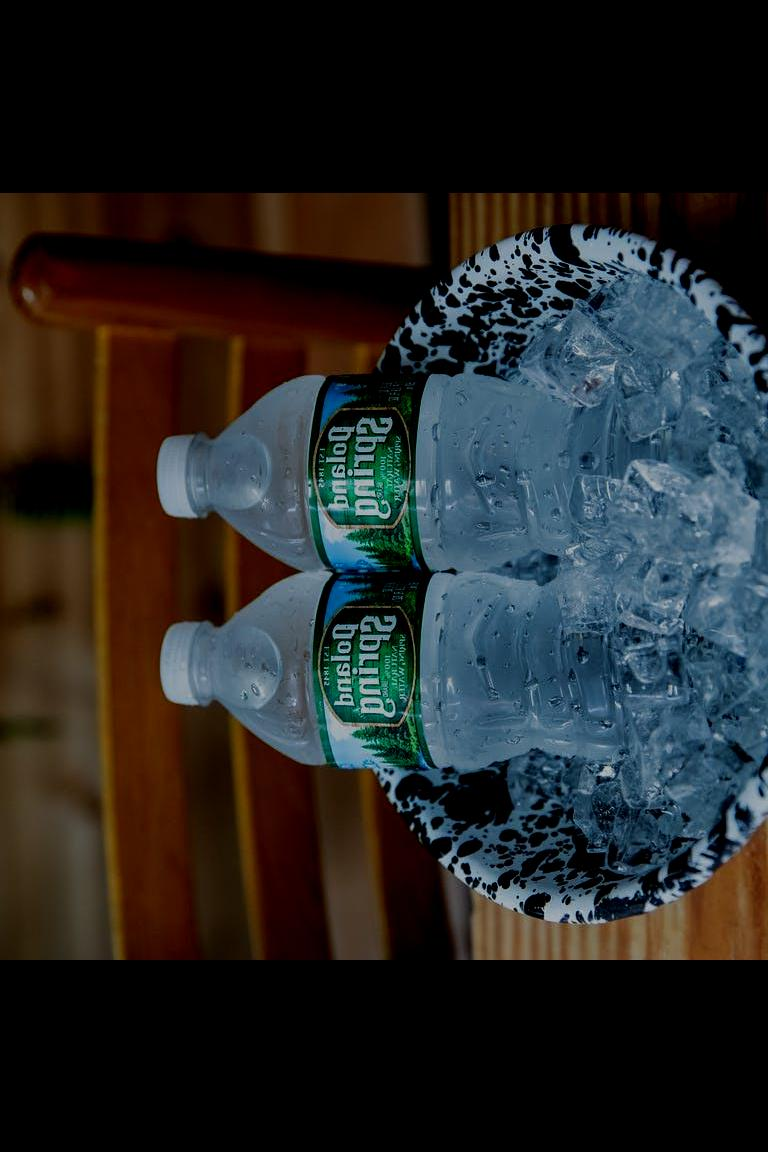bottle: (150, 541, 768, 794), (143, 362, 768, 582)
